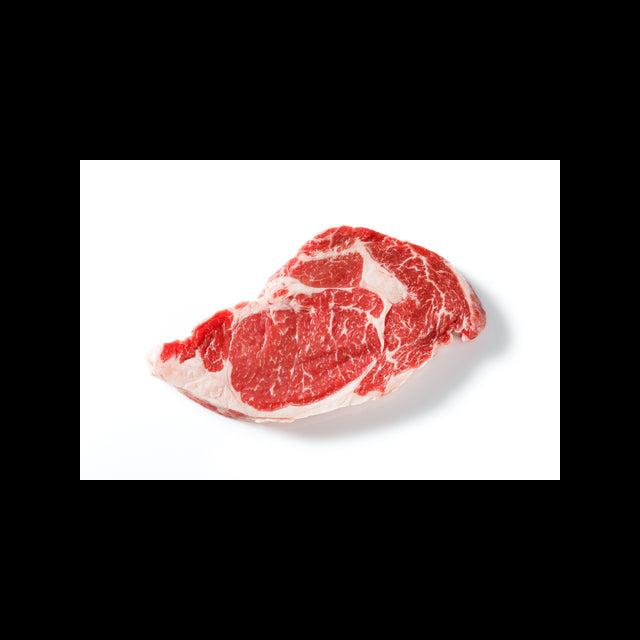beef: (142, 223, 488, 420)
